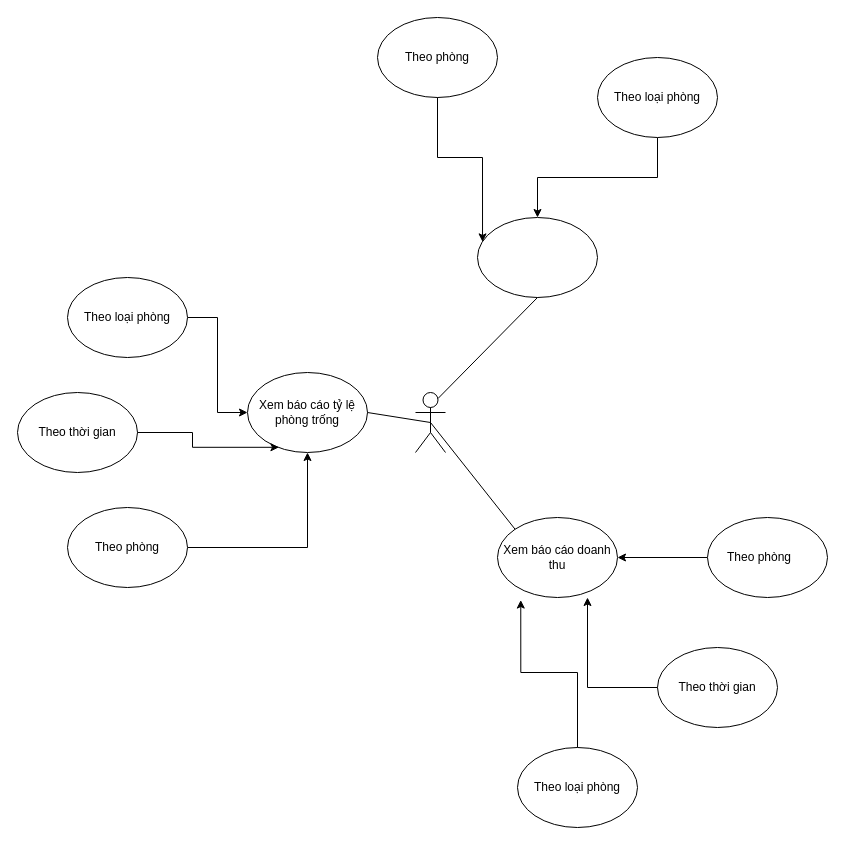
Image size: 845x845. Some labels were removed from this diagram. The centre of each missing label's shape, as x and y in pixels:
"Actor" belongs at (430,422).
"Xem báo cáo khách hàng đặt nhiều" belongs at (537,257).
